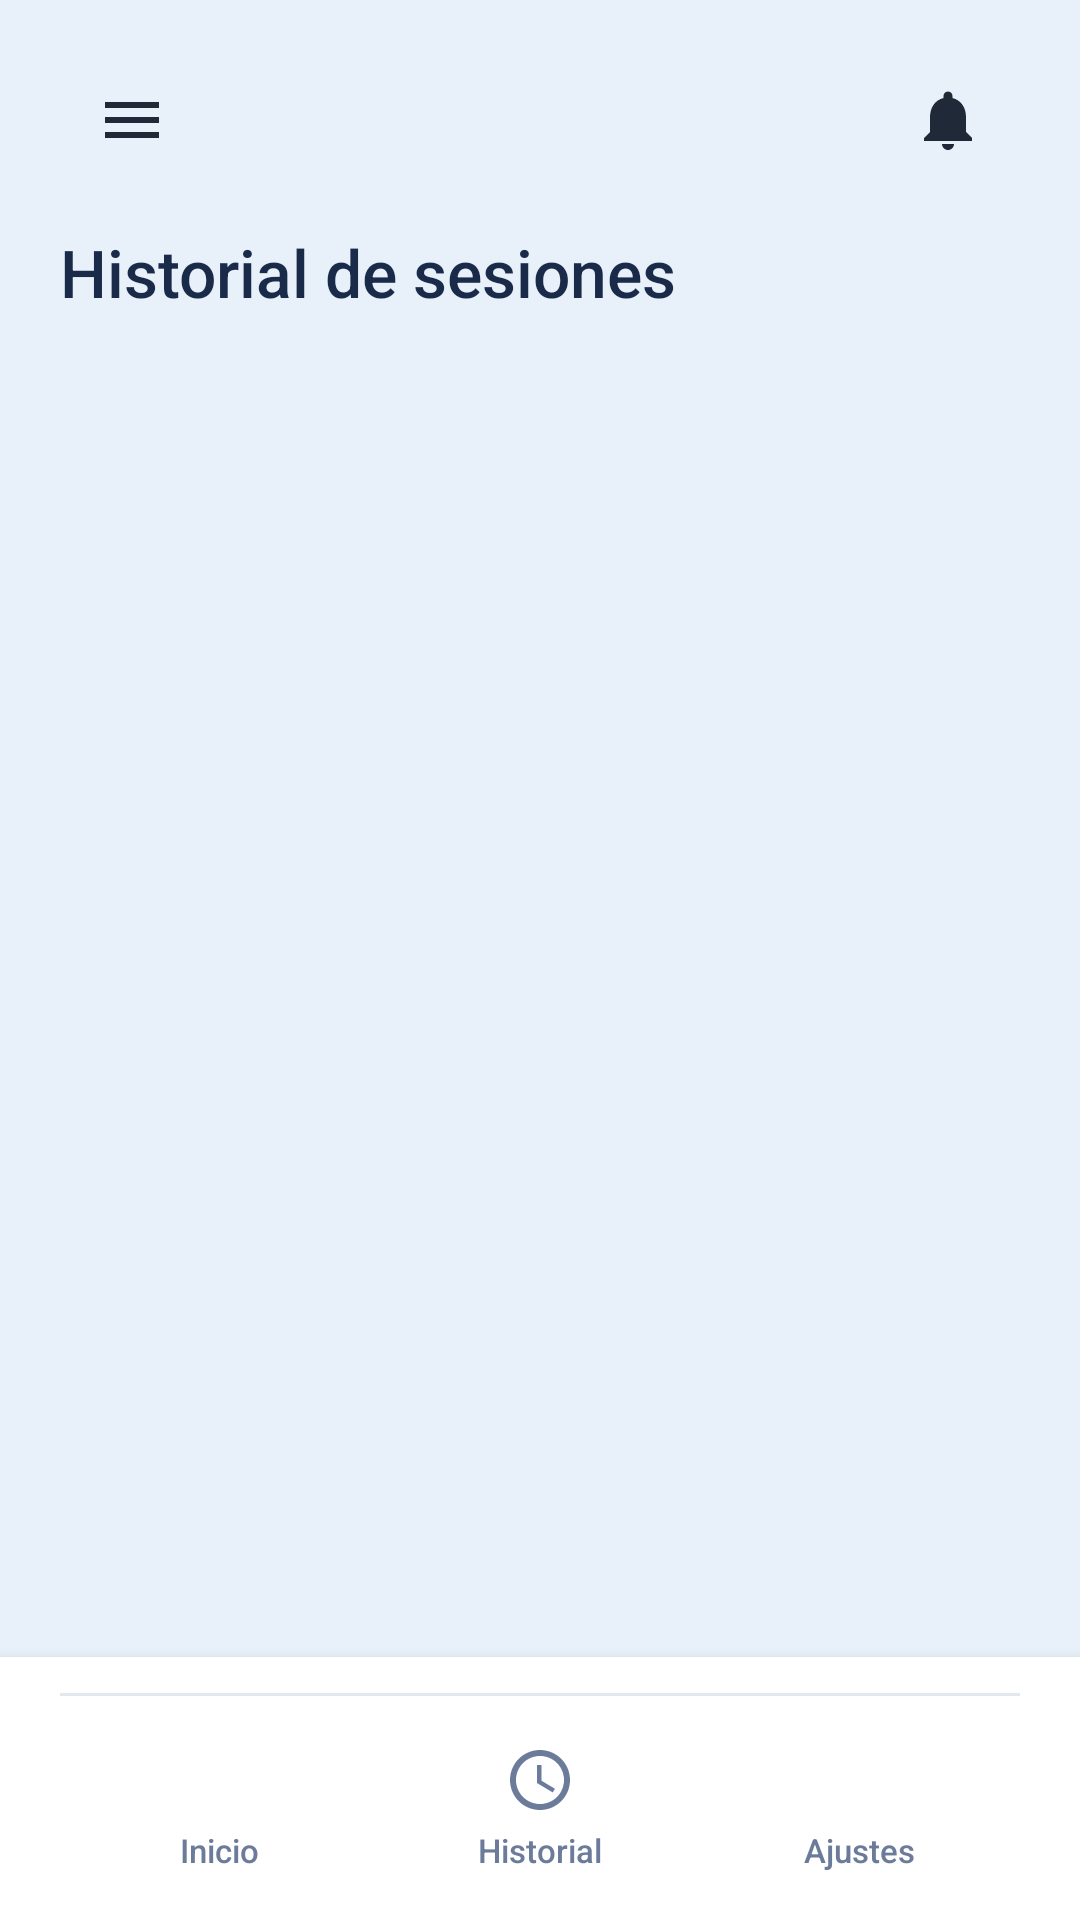

Named icons in this screenshot (1080x1920) and their centers, (x,y):
Abrir el menú: (132,120)
Notificaciones: (948,120)
